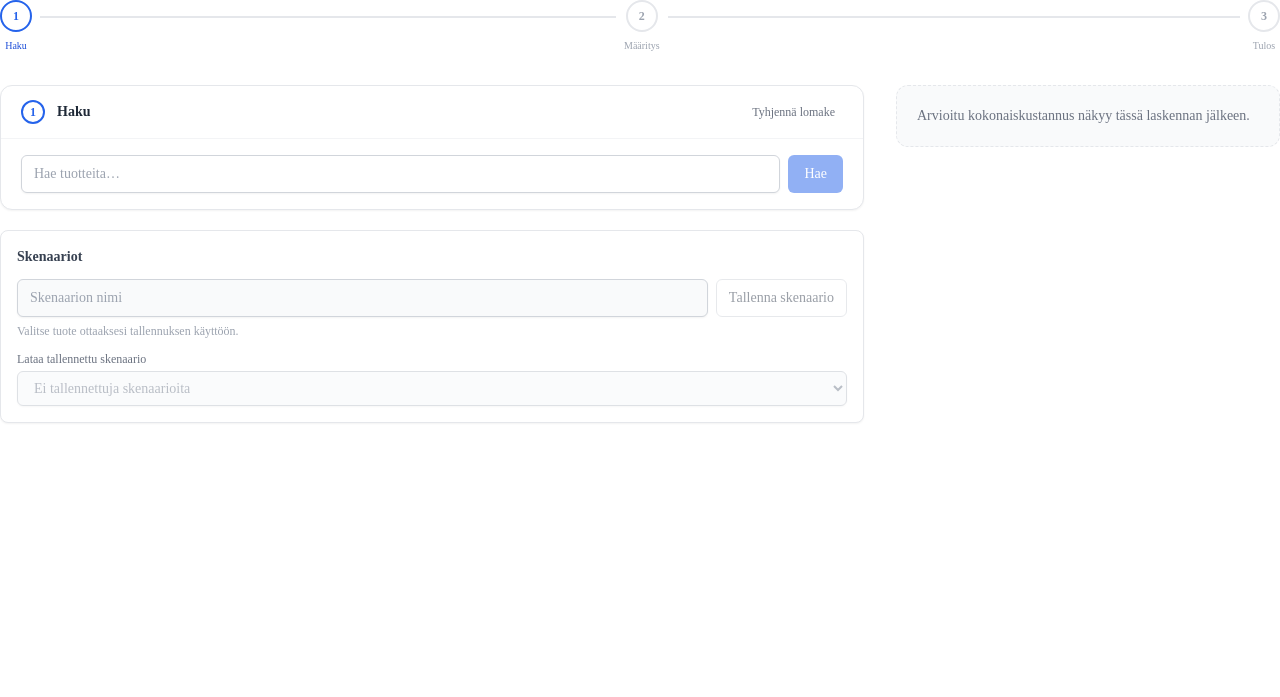
Test: CalculatorView did-you-mean suggestion chip (task 3.3) › runs the suggested query from the chip and preserves the original query in the input
Type "koskenkrova" into the field with placeholder "Hae tuotteita…" at (401, 174), box left=21, top=155, right=780, bottom=193
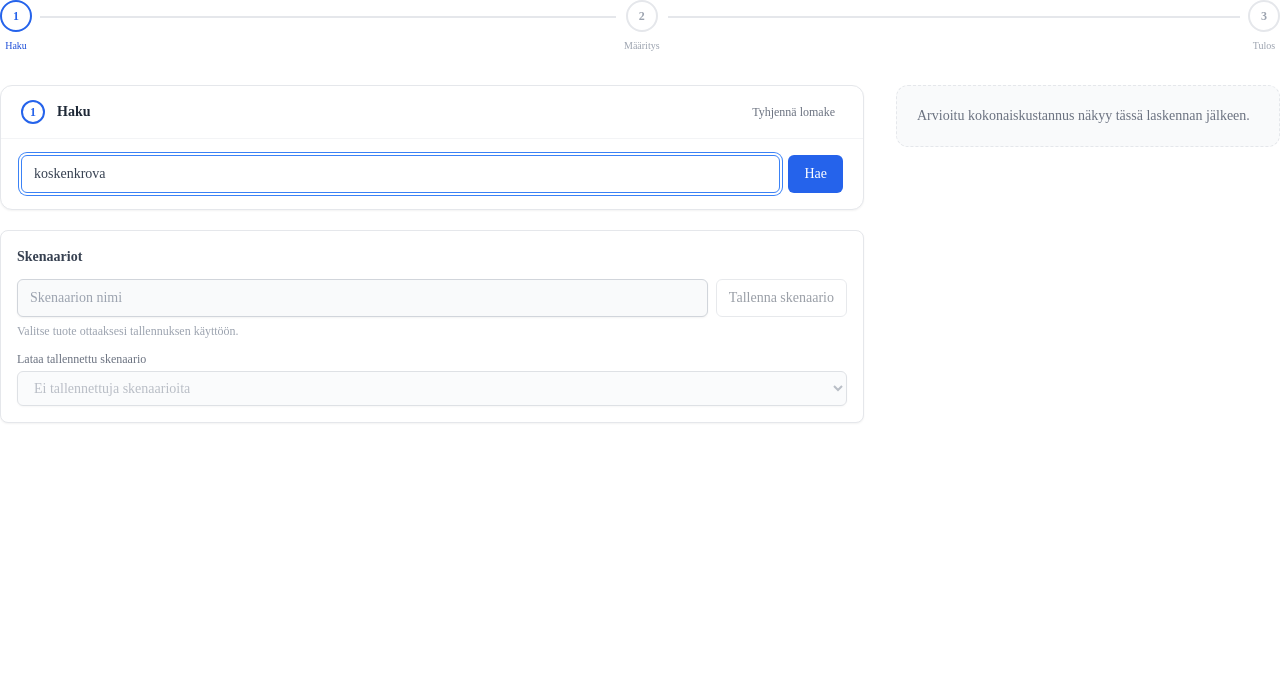
Click the button "Hae" at (816, 174), box left=788, top=155, right=843, bottom=193
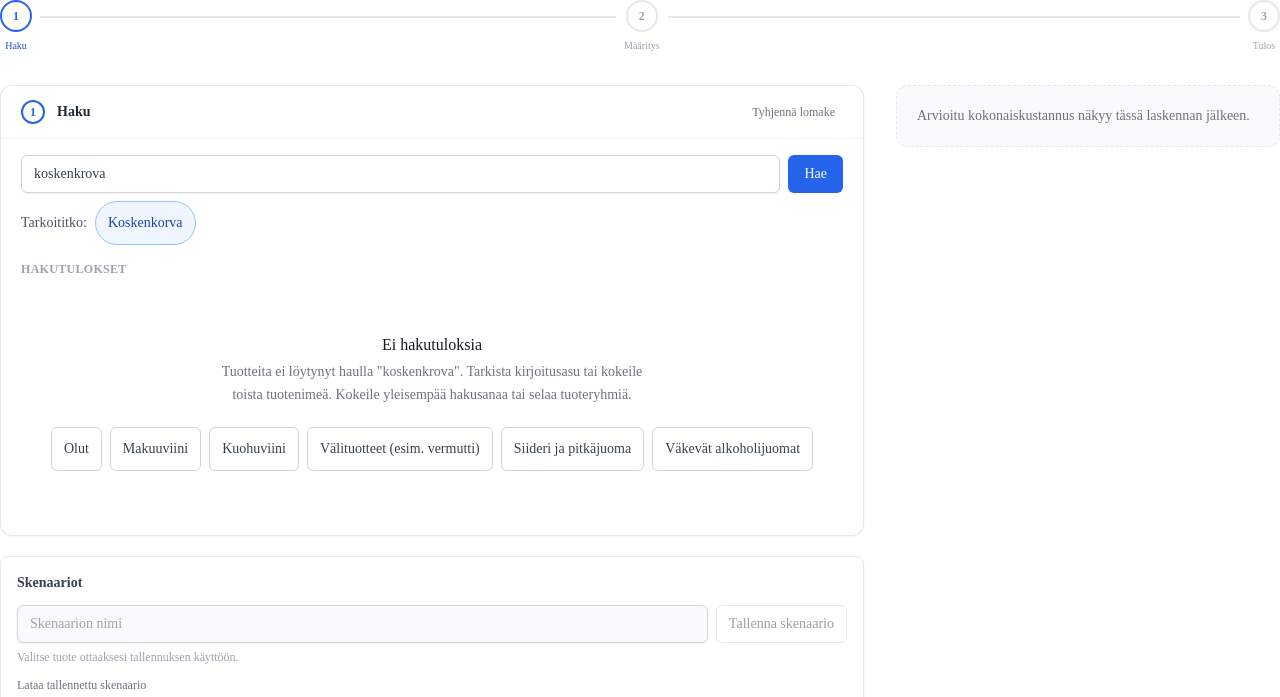
Expected: the element with test id "search-suggestion" shows "Tarkoititko:", left=21, top=215, right=87, bottom=230
Expected: the button with test id "search-suggestion-chip" reads "Koskenkorva"
Click the button with test id "search-suggestion-chip" at (145, 223), box left=95, top=201, right=196, bottom=245
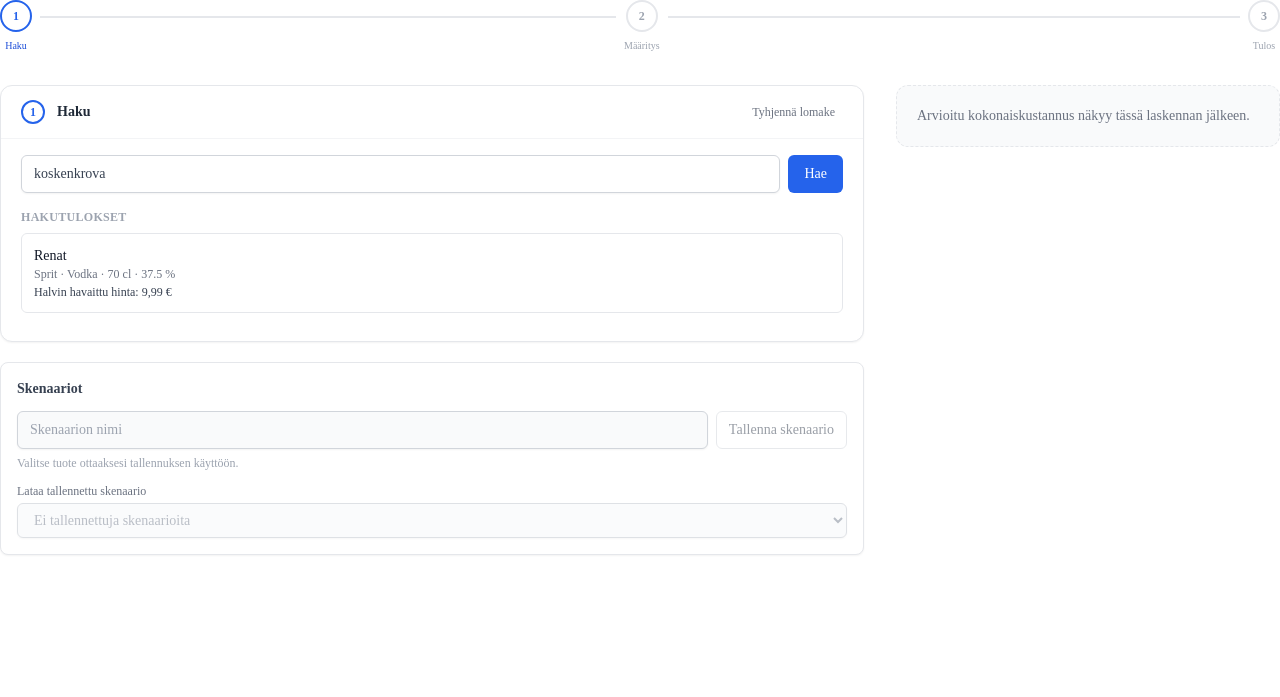
Expected: the text "Renat" is shown, left=34, top=248, right=67, bottom=263
Expected: the element with test id "search-suggestion" is gone
